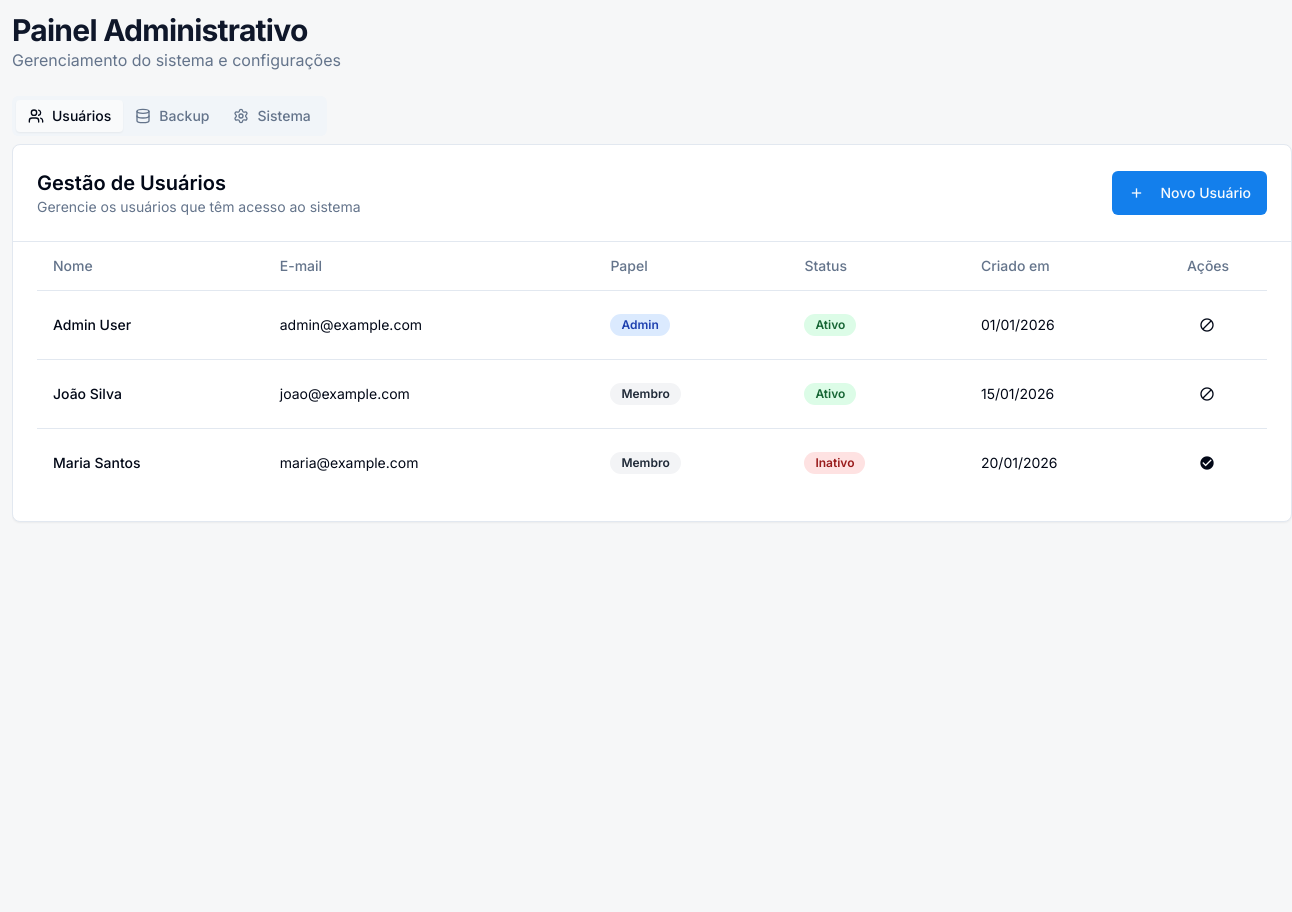
AdminPage Integration › switches to backup tab
Expected: the heading "Painel Administrativo" is shown, x1=12 y1=12 x2=308 y2=48
Click the tab "Backup" at (172,116), box x1=123 y1=100 x2=221 y2=132
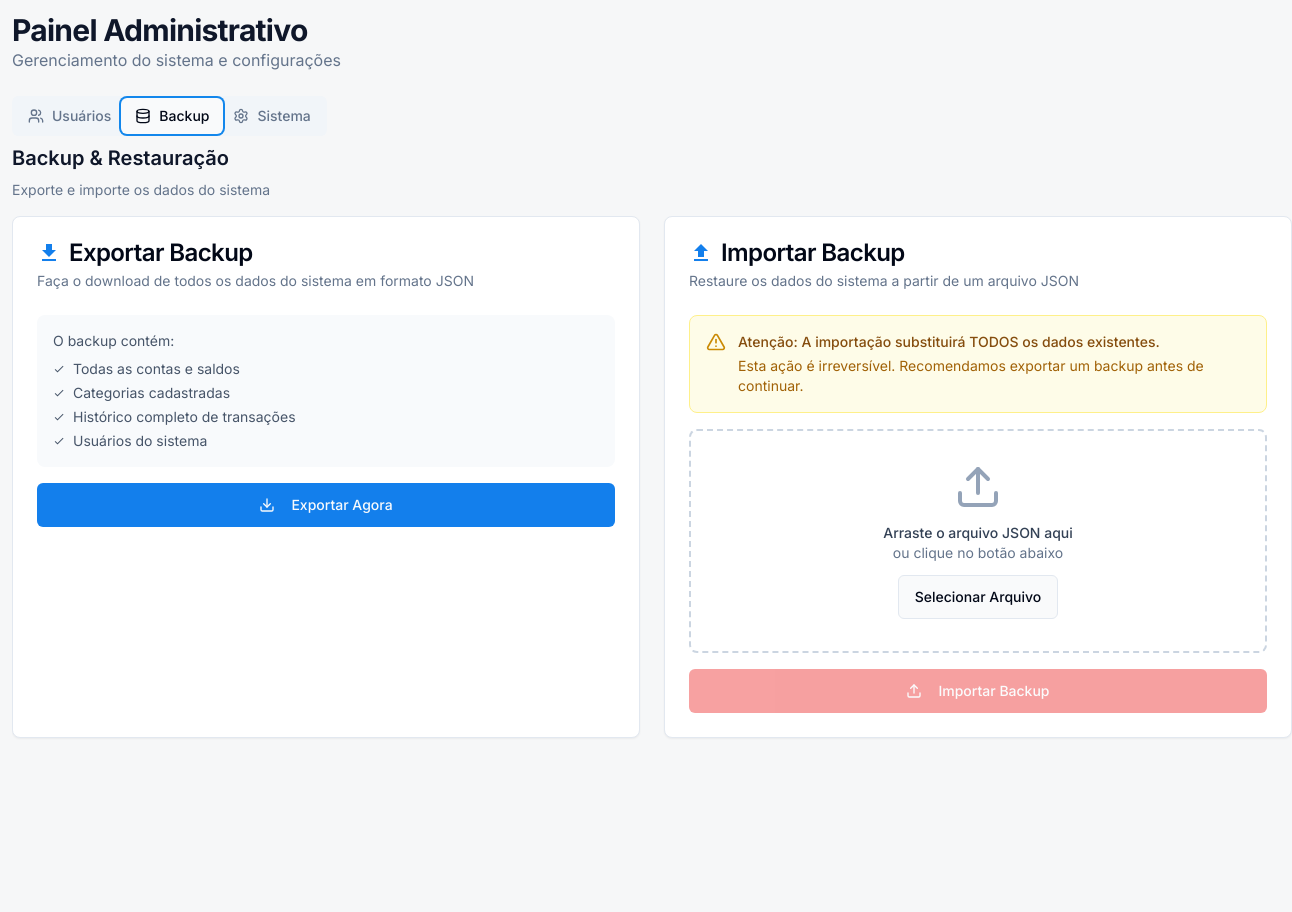
Expected: the heading "Backup & Restauração" is shown, x1=12 y1=146 x2=229 y2=170
Expected: the text "Exportar Backup" is shown, x1=69 y1=241 x2=253 y2=265
Expected: the button "Importar Backup" is shown, x1=689 y1=669 x2=1267 y2=713
